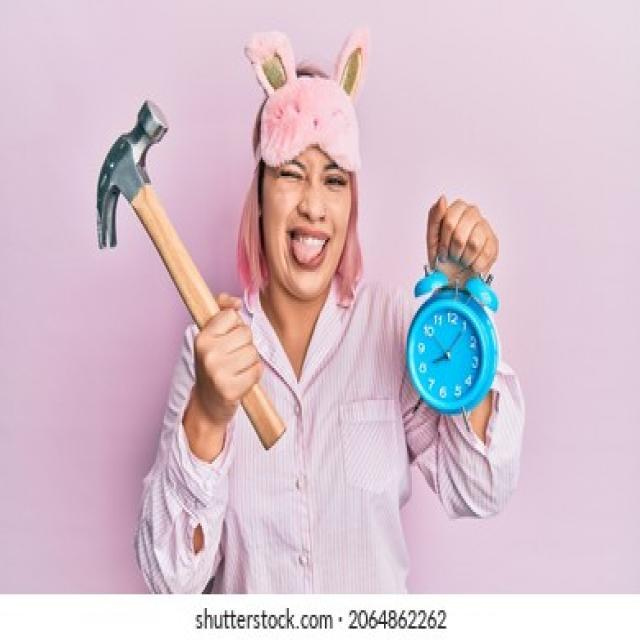hammer: (90, 98, 292, 457)
